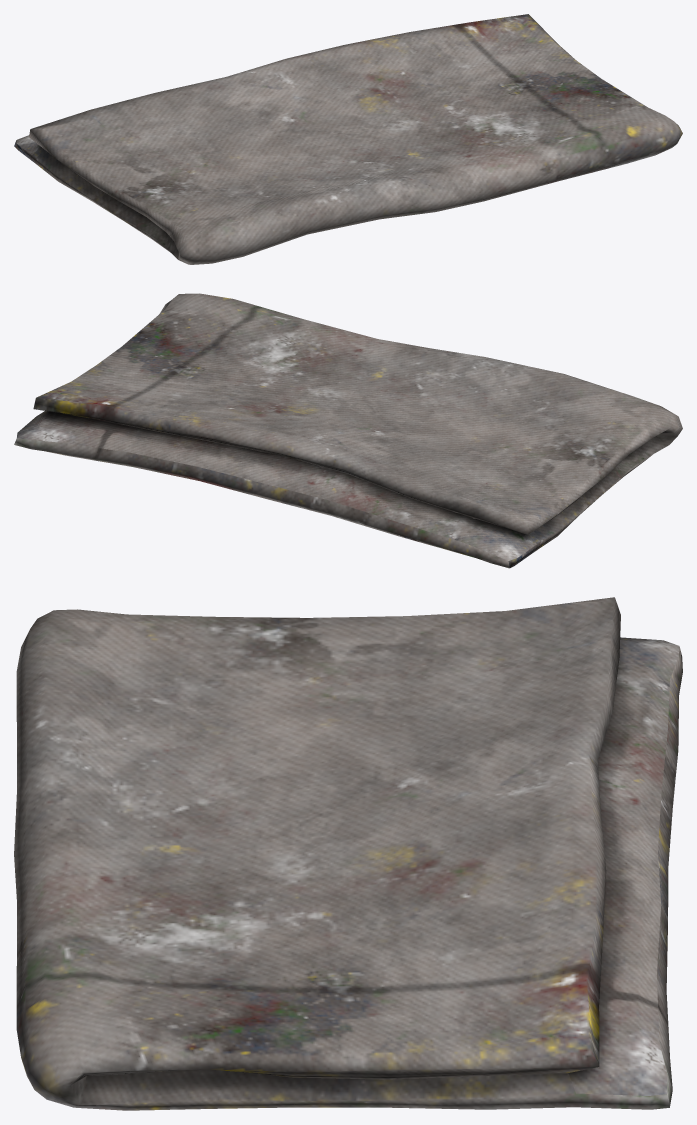
File: largepaintRag.fbx
3 renders of one model, top to bottom at view 1: azimuth 30°, elevation 25°; view 2: azimuth 150°, elevation 25°; view 3: azimuth 270°, elevation 25°, orthographic. The views are drawn at different scales.
Parts seen in each view (by area): view 1: paintRagLrg_paintRag5; view 2: paintRagLrg_paintRag5; view 3: paintRagLrg_paintRag5.
Part boxes in pixels (x1=…): paintRagLrg_paintRag5: x1=14, y1=14, x2=682, y2=264; paintRagLrg_paintRag5: x1=14, y1=293, x2=682, y2=568; paintRagLrg_paintRag5: x1=14, y1=597, x2=682, y2=1110.
Size of the model in its own units: 49.64 by 5.07 by 30.31.
1 material, 1 textured.
